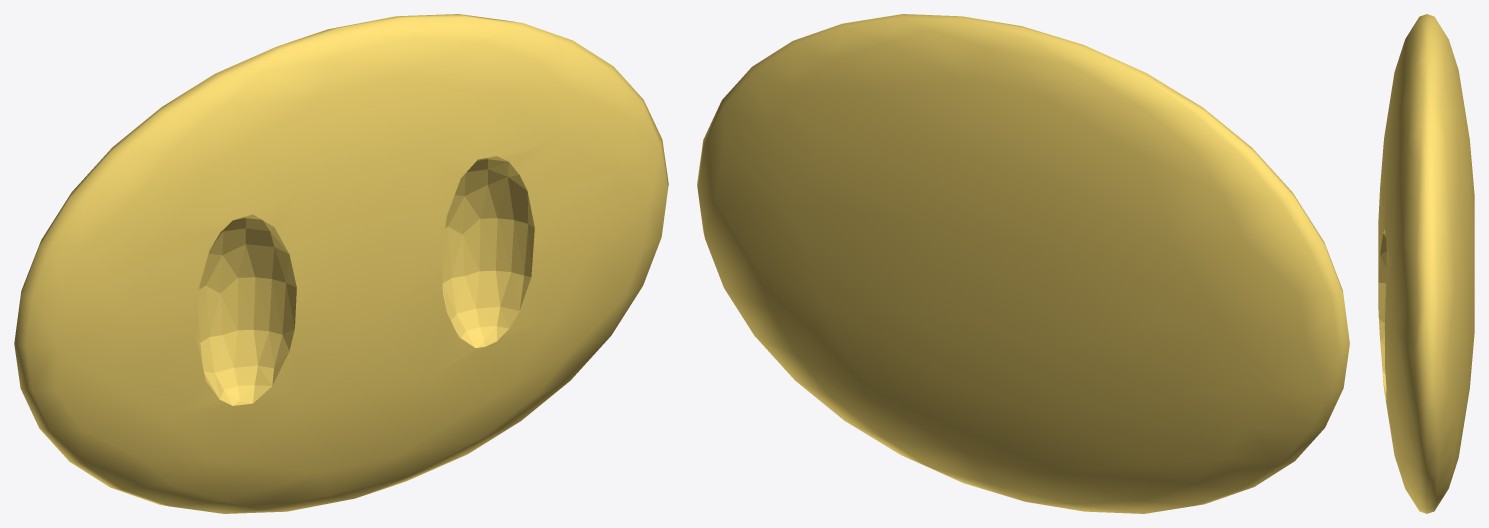
File: loot-bag-goldlight.fbx
The picture shows the model from 3 angles, left to right: view 1: azimuth 30°, elevation 25°; view 2: azimuth 150°, elevation 25°; view 3: azimuth 270°, elevation 25°; orthographic projection. The views are drawn at different scales.
Visible parts, largest first — view 1: GoldLight; view 2: GoldLight; view 3: GoldLight.
Boxes of the visible parts, x1,y1,x2,y2 form: GoldLight: [14, 14, 668, 513]; GoldLight: [697, 14, 1349, 513]; GoldLight: [1378, 14, 1474, 513].
Bounding box in the file's own units: 57.92 × 39.96 × 8.44.
